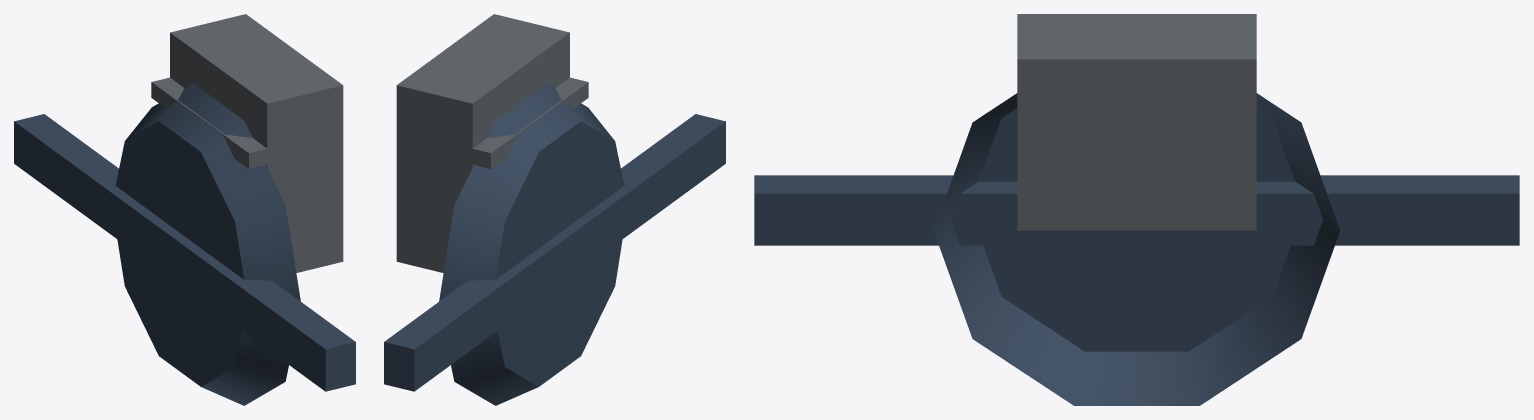
Rendered from TG_Blast.glb.
3 views of the same model, side by side, from view 1: azimuth 30°, elevation 25°; view 2: azimuth 150°, elevation 25°; view 3: azimuth 270°, elevation 25° (orthographic). The views are drawn at different scales.
Parts seen in each view (by area): view 1: TG_Blast__lock, TG_Blast__door; view 2: TG_Blast__lock, TG_Blast__door; view 3: TG_Blast__lock, TG_Blast__door.
Boxes of the visible parts, x1=… form: TG_Blast__lock: x1=14, y1=83, x2=355, y2=405; TG_Blast__door: x1=151, y1=14, x2=343, y2=272; TG_Blast__lock: x1=384, y1=83, x2=725, y2=405; TG_Blast__door: x1=396, y1=14, x2=588, y2=272; TG_Blast__lock: x1=754, y1=93, x2=1519, y2=405; TG_Blast__door: x1=1017, y1=14, x2=1256, y2=230.
Bounding box in the file's own units: 0.74 × 1.81 × 3.2.
